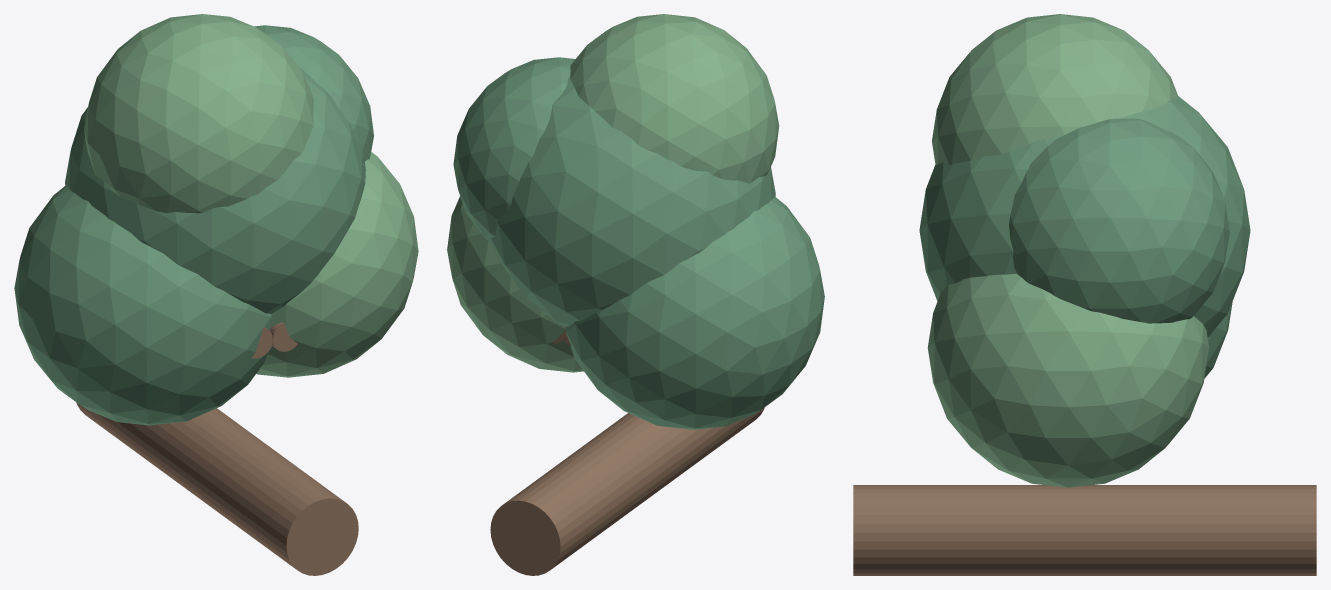
The model's file is tree.glb.
3 renders of one model, left to right at view 1: azimuth 30°, elevation 25°; view 2: azimuth 150°, elevation 25°; view 3: azimuth 270°, elevation 25°, orthographic. The views are drawn at different scales.
Parts seen in each view (by area): view 1: world; view 2: world; view 3: world.
Part boxes in pixels (x1,y1,x2,y2): world: (14, 14, 418, 575); world: (447, 14, 824, 575); world: (853, 14, 1316, 575).
Bounding box in the file's own units: 5.5 × 7.1 × 5.6.
